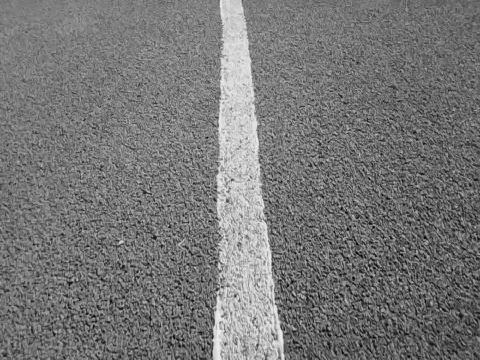Lines: (215, 0, 286, 360)
